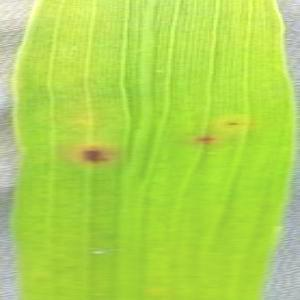0 BrownSpot: (77, 138, 122, 175), (216, 111, 256, 135), (186, 129, 220, 151)
